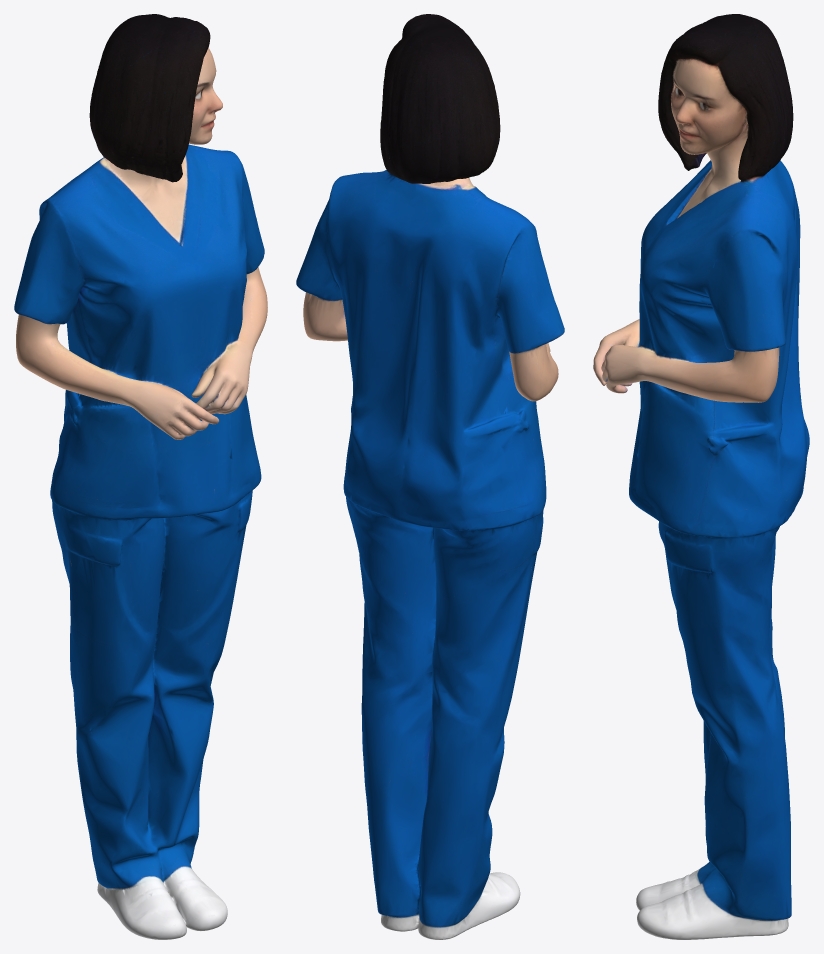
Rendered from scrub_nurse.glb.
3 views of the same model, side by side, from view 1: azimuth 30°, elevation 25°; view 2: azimuth 150°, elevation 25°; view 3: azimuth 270°, elevation 25° (orthographic). The views are drawn at different scales.
Visible parts, largest first — view 1: Object_5; view 2: Object_5; view 3: Object_5.
Part boxes in pixels (x1=…): Object_5: x1=14, y1=14, x2=267, y2=939; Object_5: x1=296, y1=14, x2=564, y2=939; Object_5: x1=593, y1=14, x2=809, y2=939.
Bounding box in the file's own units: 0.5674 × 1.9 × 0.4132.
Materials: 1 (1 with a texture image).
